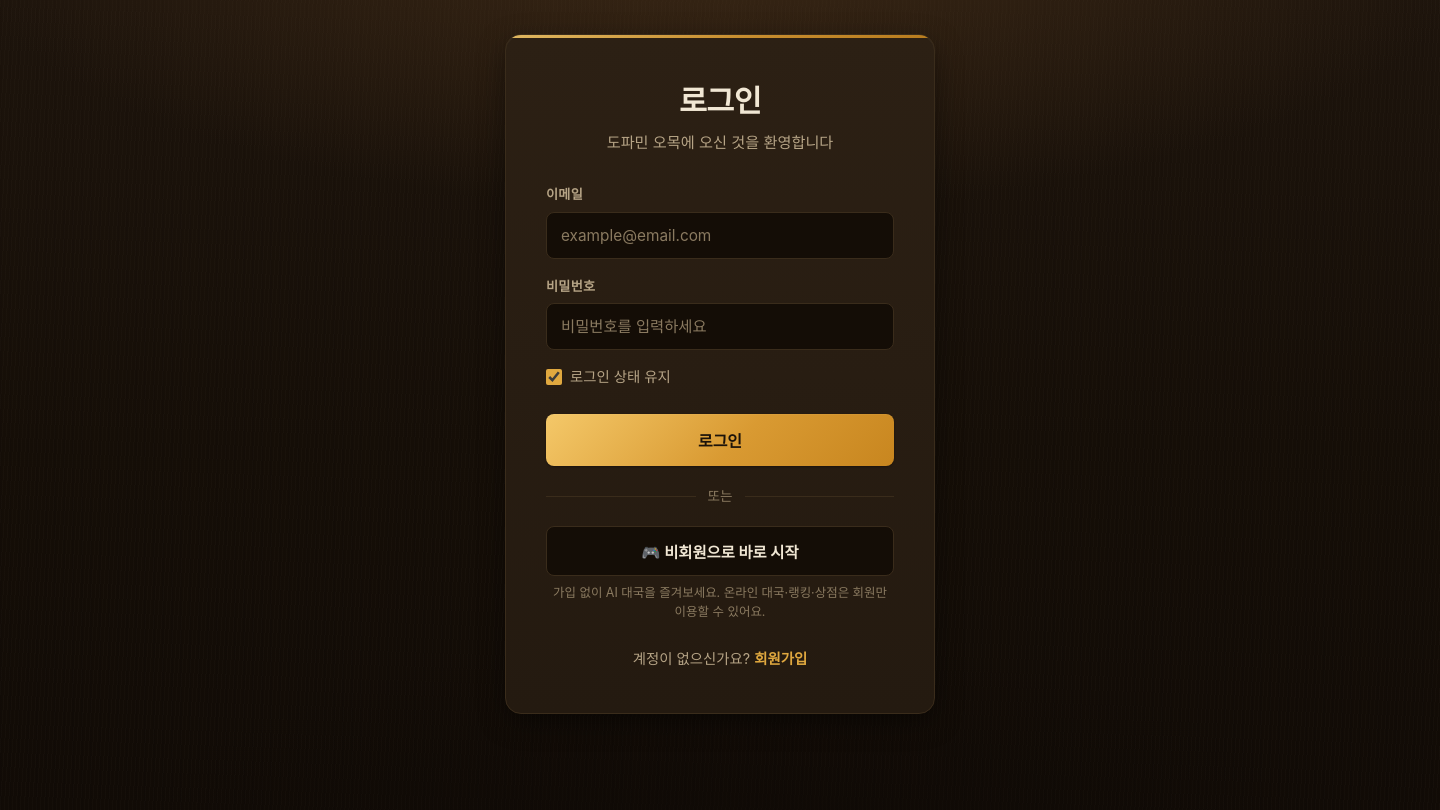
Test case: LoginPage - 이메일 로그인 › 이메일 미인증(403)이면 인증 메일 재발송 링크를 보여준다
Type "unverified@test.com" into the field labelled "이메일" at (720, 235), box x1=546 y1=212 x2=894 y2=259
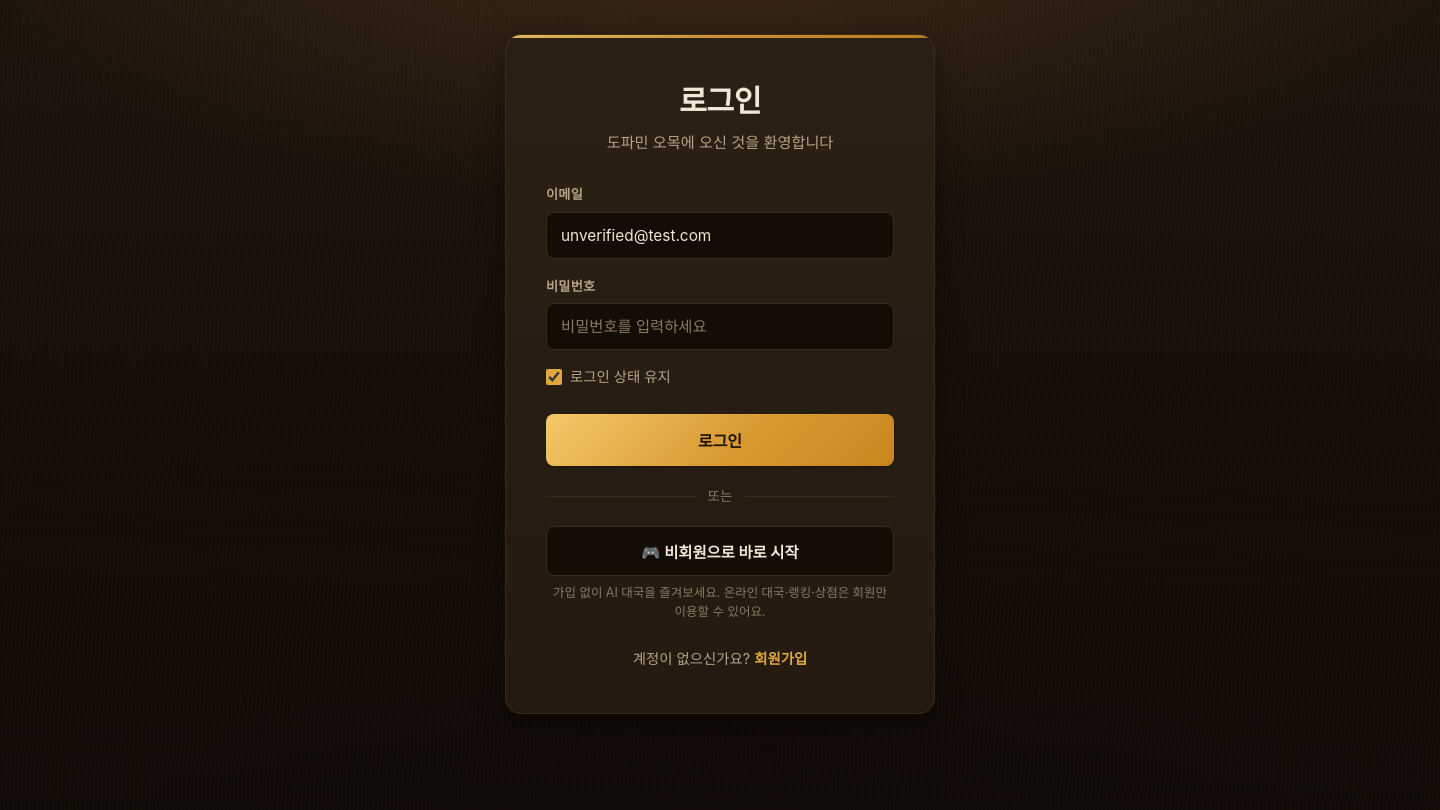
Type "password123" into the password field labelled "비밀번호" at (720, 327), box x1=546 y1=303 x2=894 y2=350
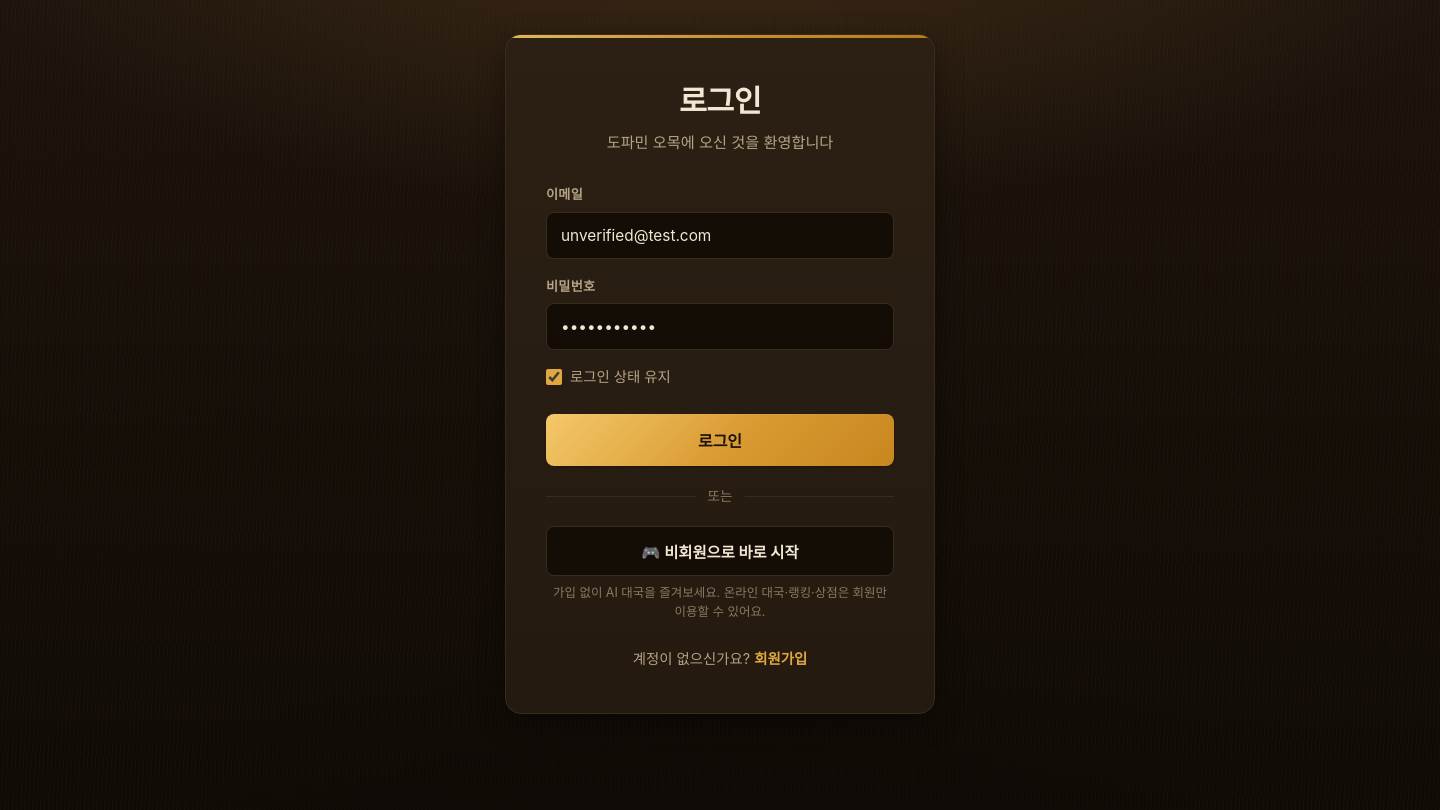
Click the button "로그인" at (720, 440), box x1=546 y1=414 x2=894 y2=466
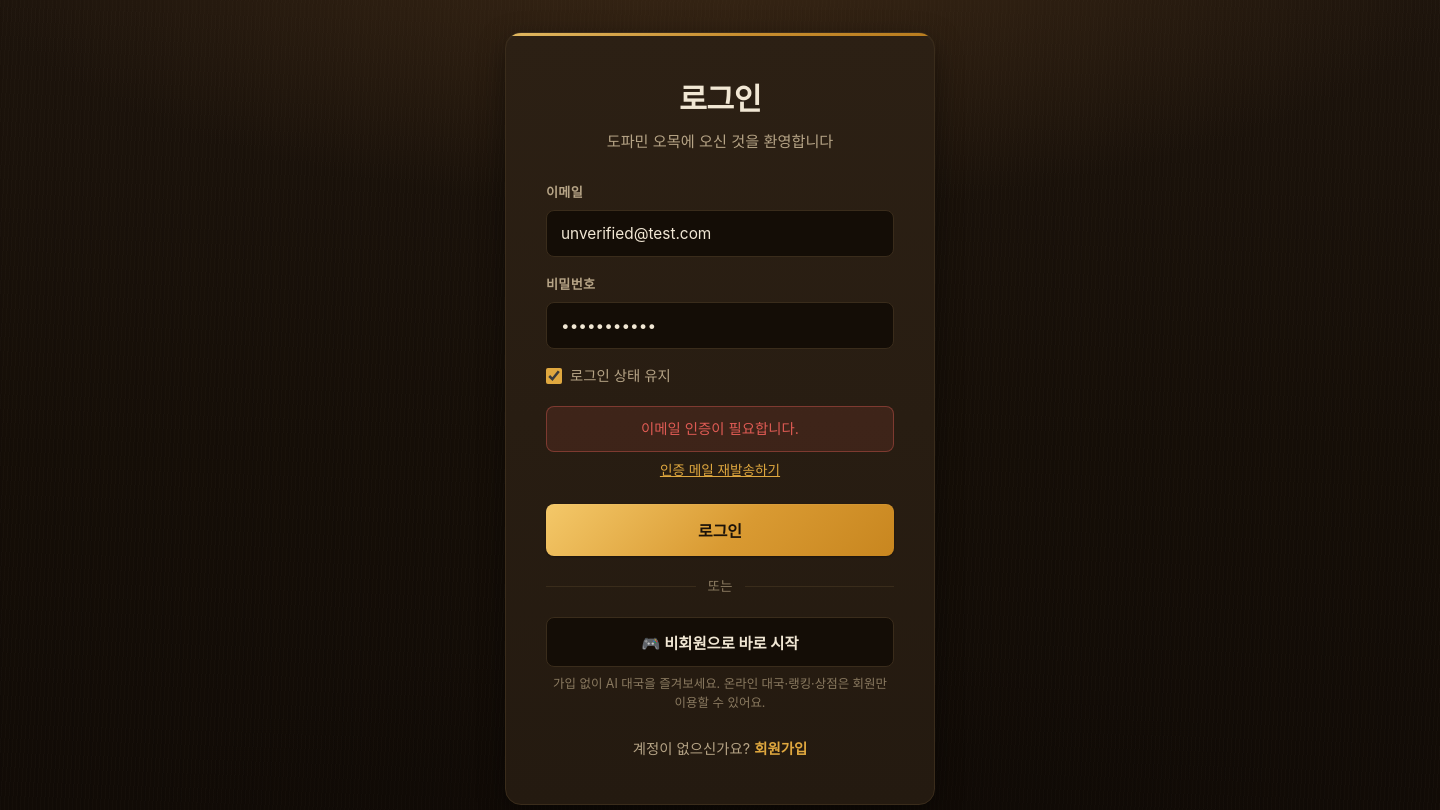
Now the text "이메일 인증이 필요합니다." is shown, box x1=546 y1=406 x2=894 y2=452
Now the link "인증 메일 재발송하기" is shown, box x1=660 y1=462 x2=780 y2=478
